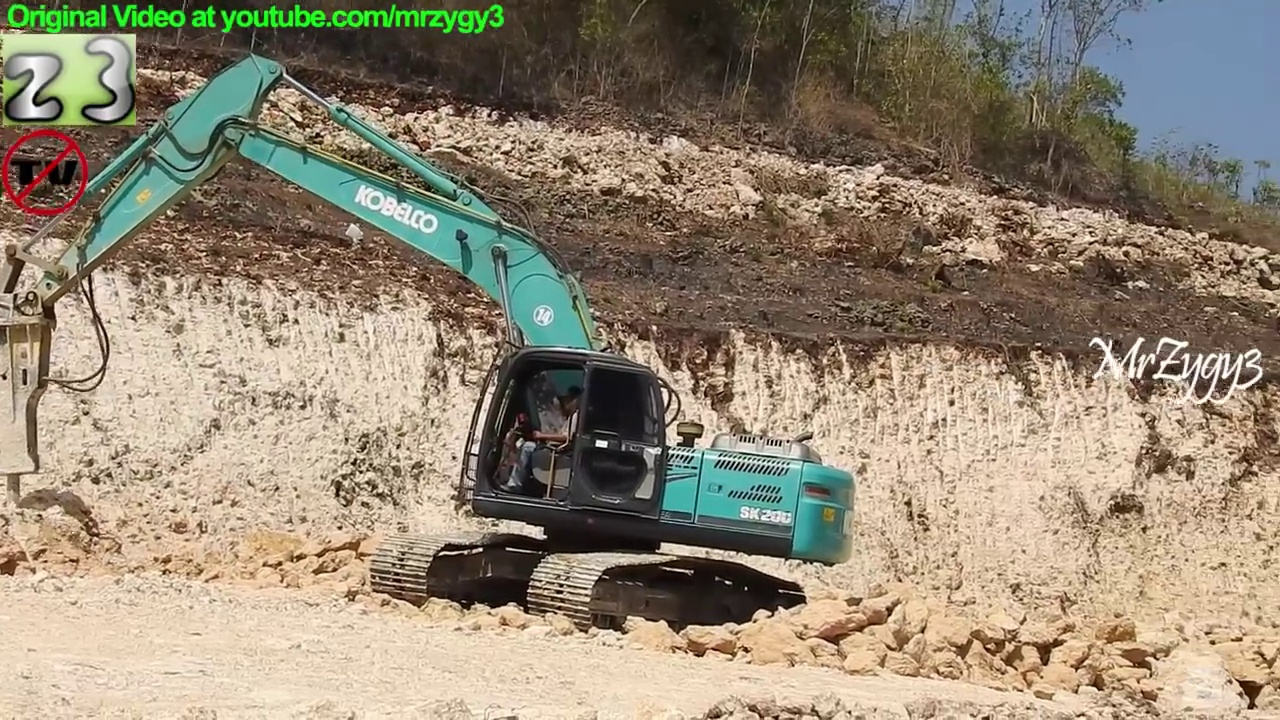excavator breaker: (1, 45, 867, 652)
